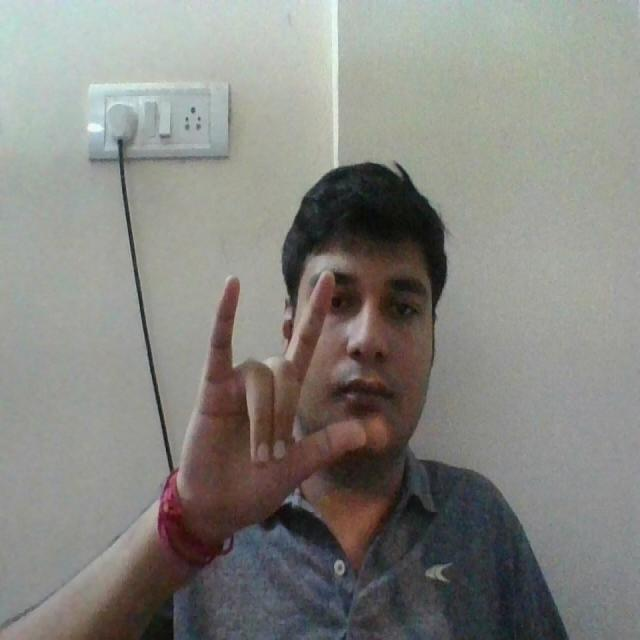I love you: (187, 258, 368, 541)
